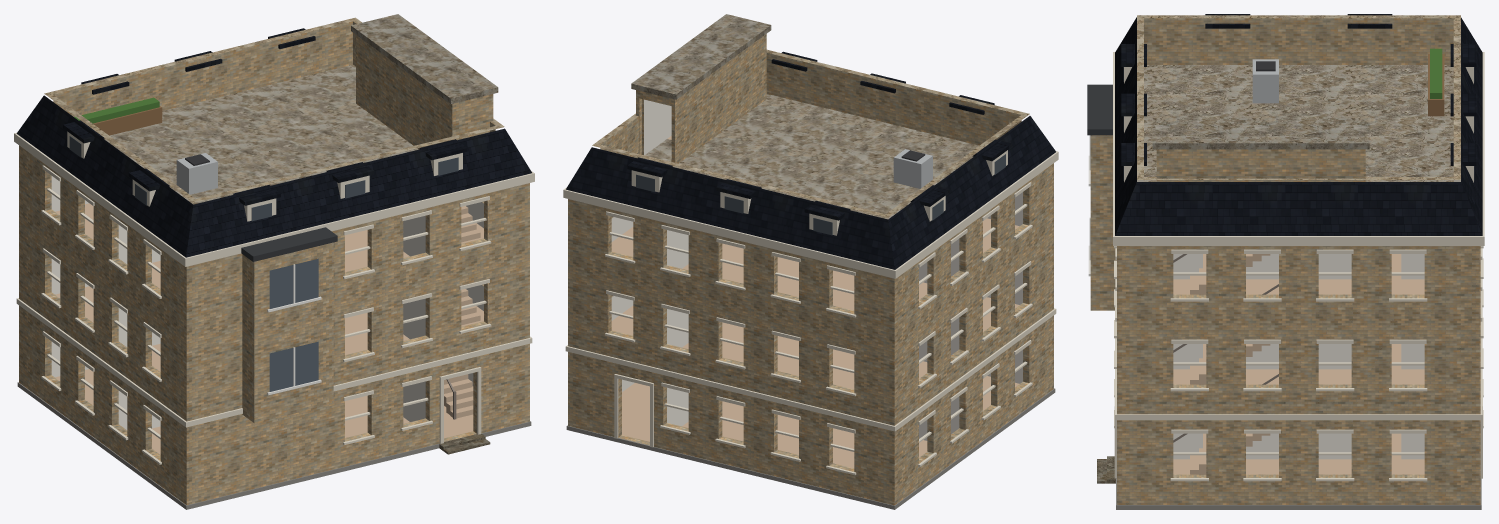
The model's file is ns-mansard-flats.towns-v2.lod0.glb.
The picture shows the model from 3 angles, left to right: view 1: azimuth 30°, elevation 25°; view 2: azimuth 150°, elevation 25°; view 3: azimuth 270°, elevation 25°; orthographic projection. The views are drawn at different scales.
Visible parts, largest first — view 1: ns-mansard-flats; view 2: ns-mansard-flats; view 3: ns-mansard-flats.
Boxes of the visible parts, <box> form: ns-mansard-flats: <box>14,14,534,509</box>; ns-mansard-flats: <box>563,14,1058,509</box>; ns-mansard-flats: <box>1087,14,1484,509</box>.
Size of the model in its own units: 13.24 by 11.96 by 12.02.
Materials: 6 (3 with a texture image).
